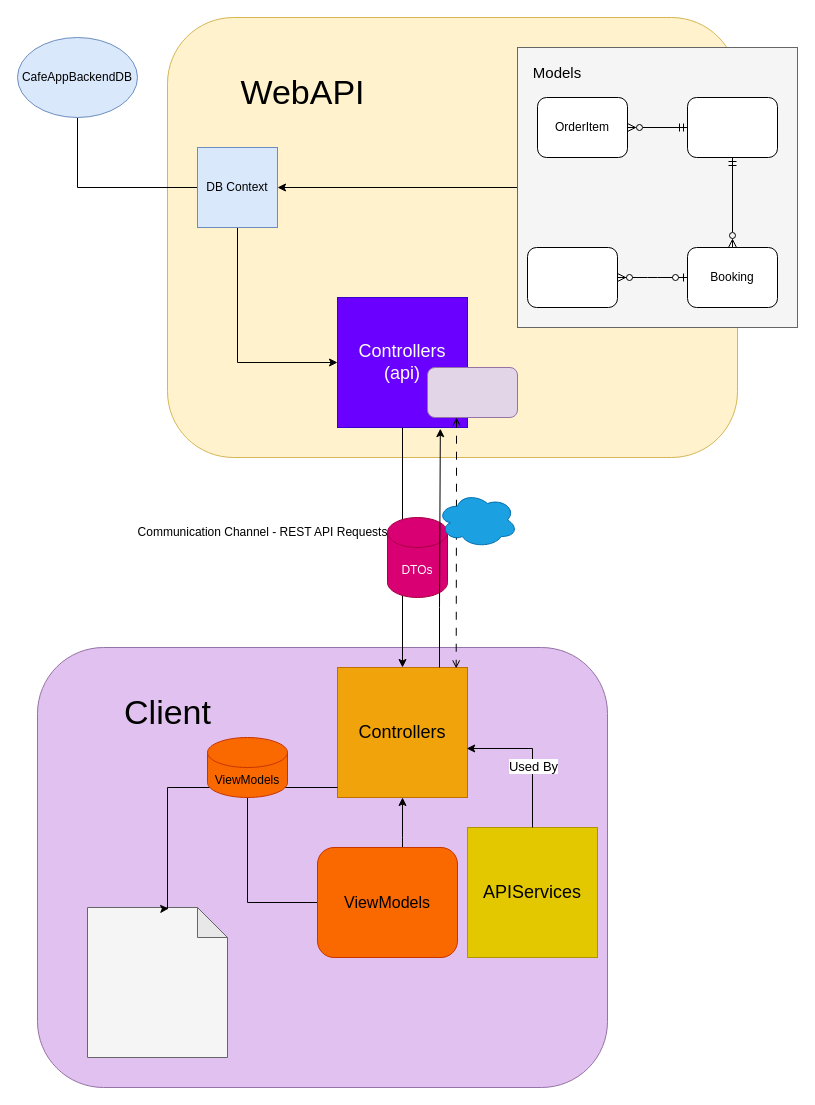
The diagram is 815 pixels wide and 1105 high, and some of its shapes have lost their labels. The shapes that lost their labels are listed below. From the top down, each one's centre as x and y in pixels, then its label:
At [732,127]: "ApplicationUser".
At [572,277]: "Invitation".
At [472,392]: "AuthController".
At [477,520]: "JWT Tokens".
At [157,982]: "Views".
